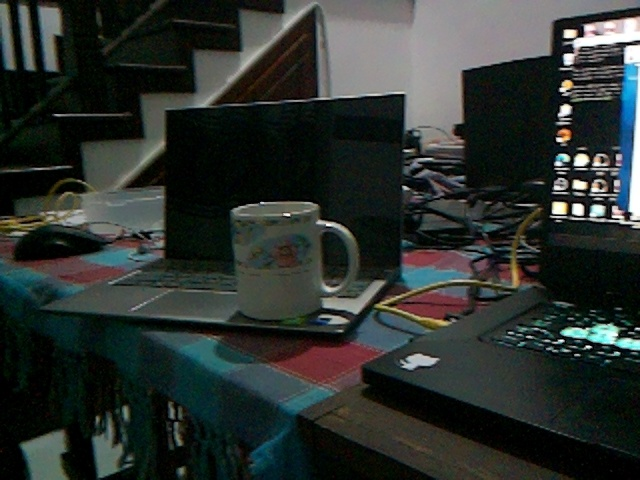mug: (227, 197, 362, 322)
